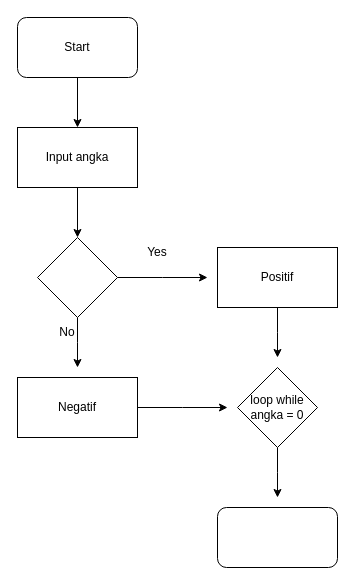
The diagram is 355 pixels wide and 585 high, and some of its shapes have lost their labels. Here are the shapes that lost their labels. From the top down, the centre of each, then its label:
At (77,277): "Angka > 0".
At (277,537): "End".
